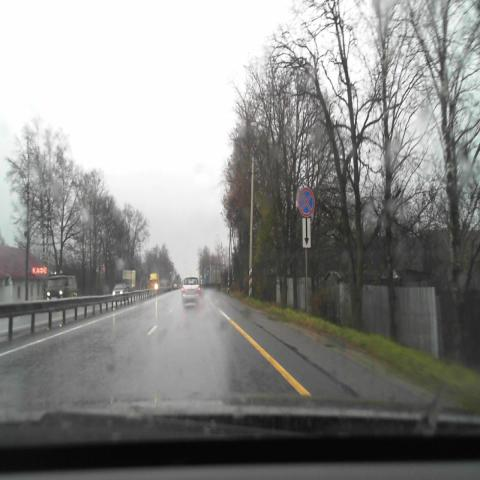8_2_3: (302, 218, 311, 248)
